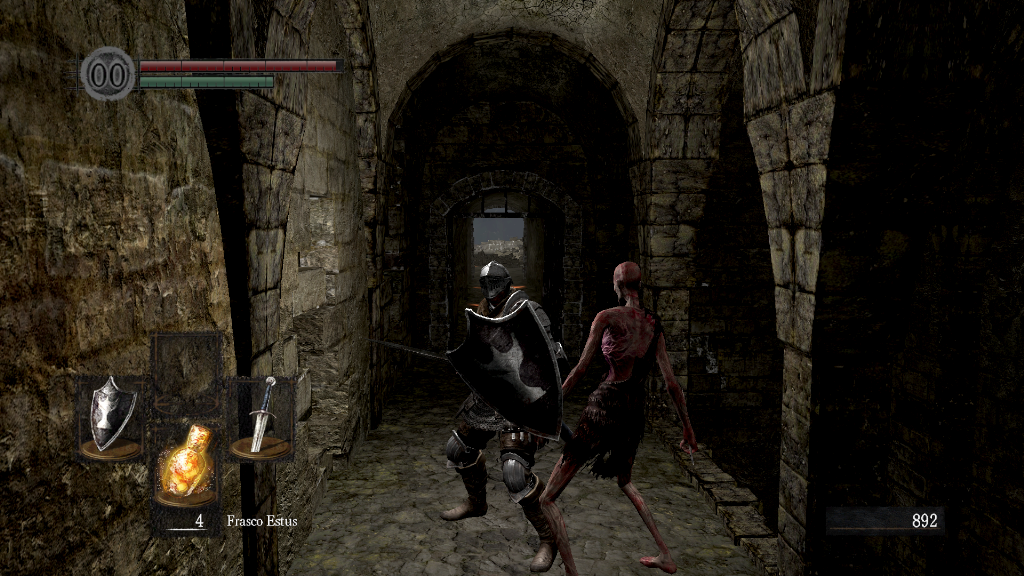health: (138, 58, 343, 71)
hollow: (550, 265, 698, 576)
humanity: (80, 45, 136, 102)
player: (354, 260, 567, 576)
souls: (825, 506, 945, 536)
stamina: (138, 74, 274, 88)
